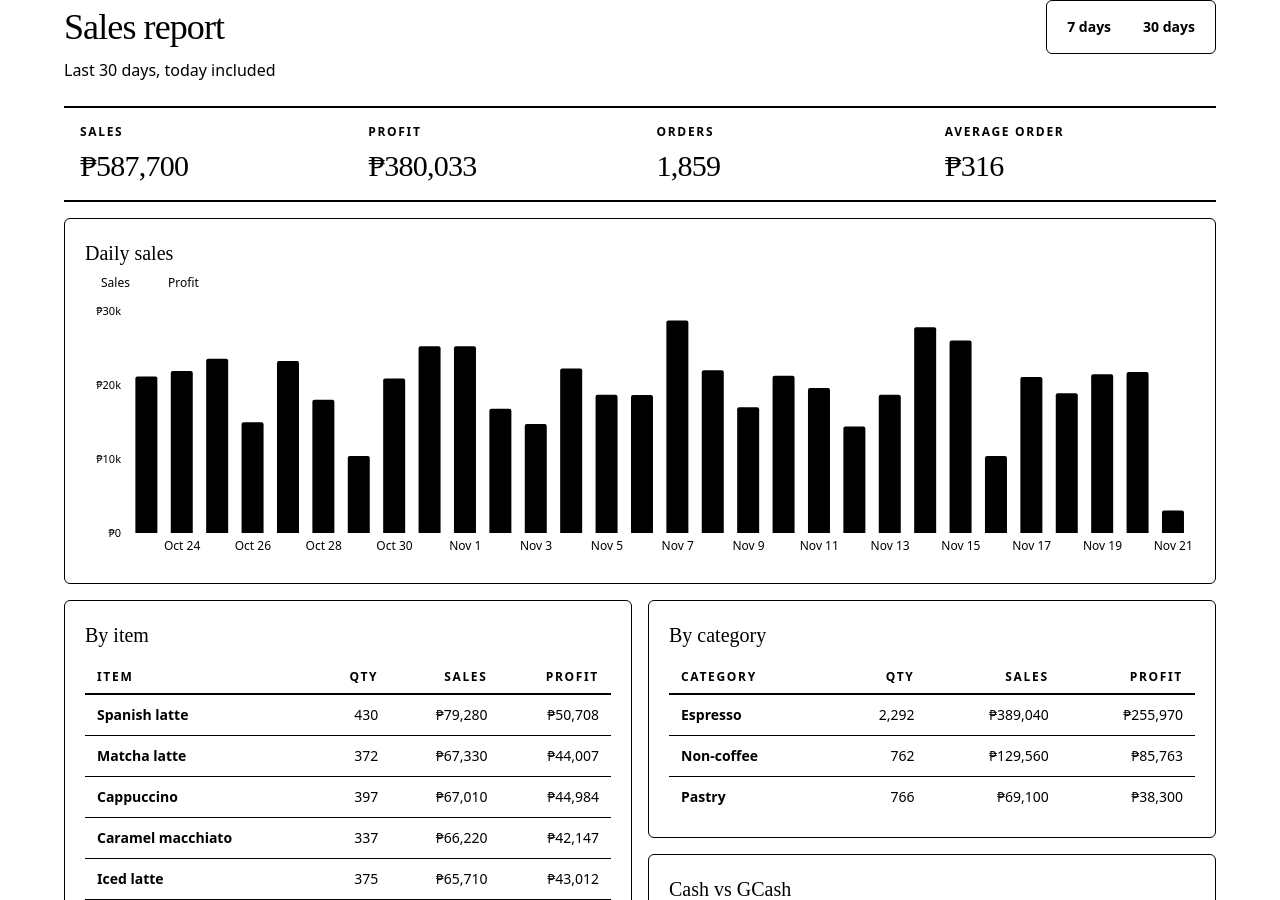
Test case: SalesReport › the range toggle switches the totals between 30 and 7 days
Click the button "7 days" at (1089, 27), box x1=1051 y1=5 x2=1127 y2=49
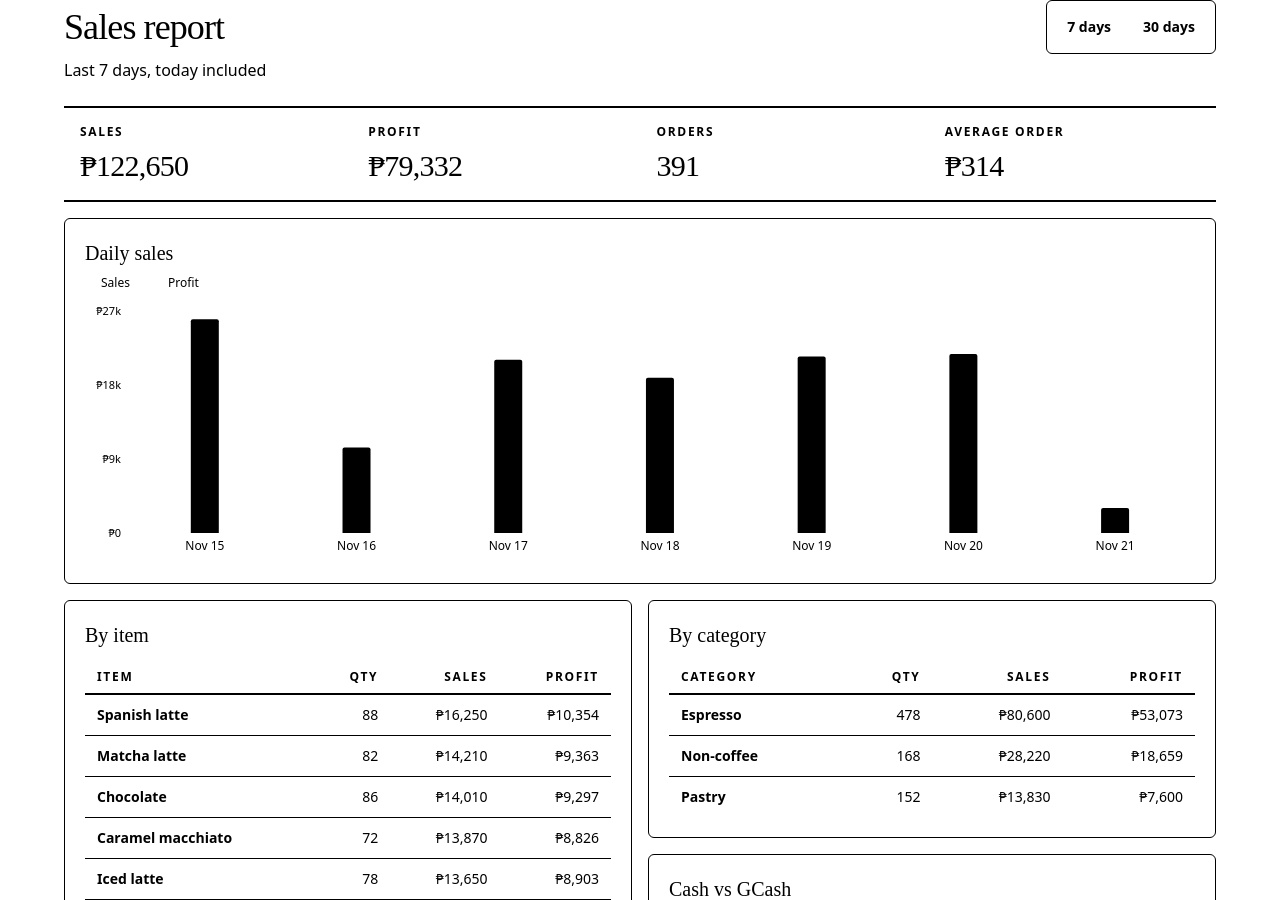
Check: the text "391" is shown, box x1=656 y1=149 x2=699 y2=182
